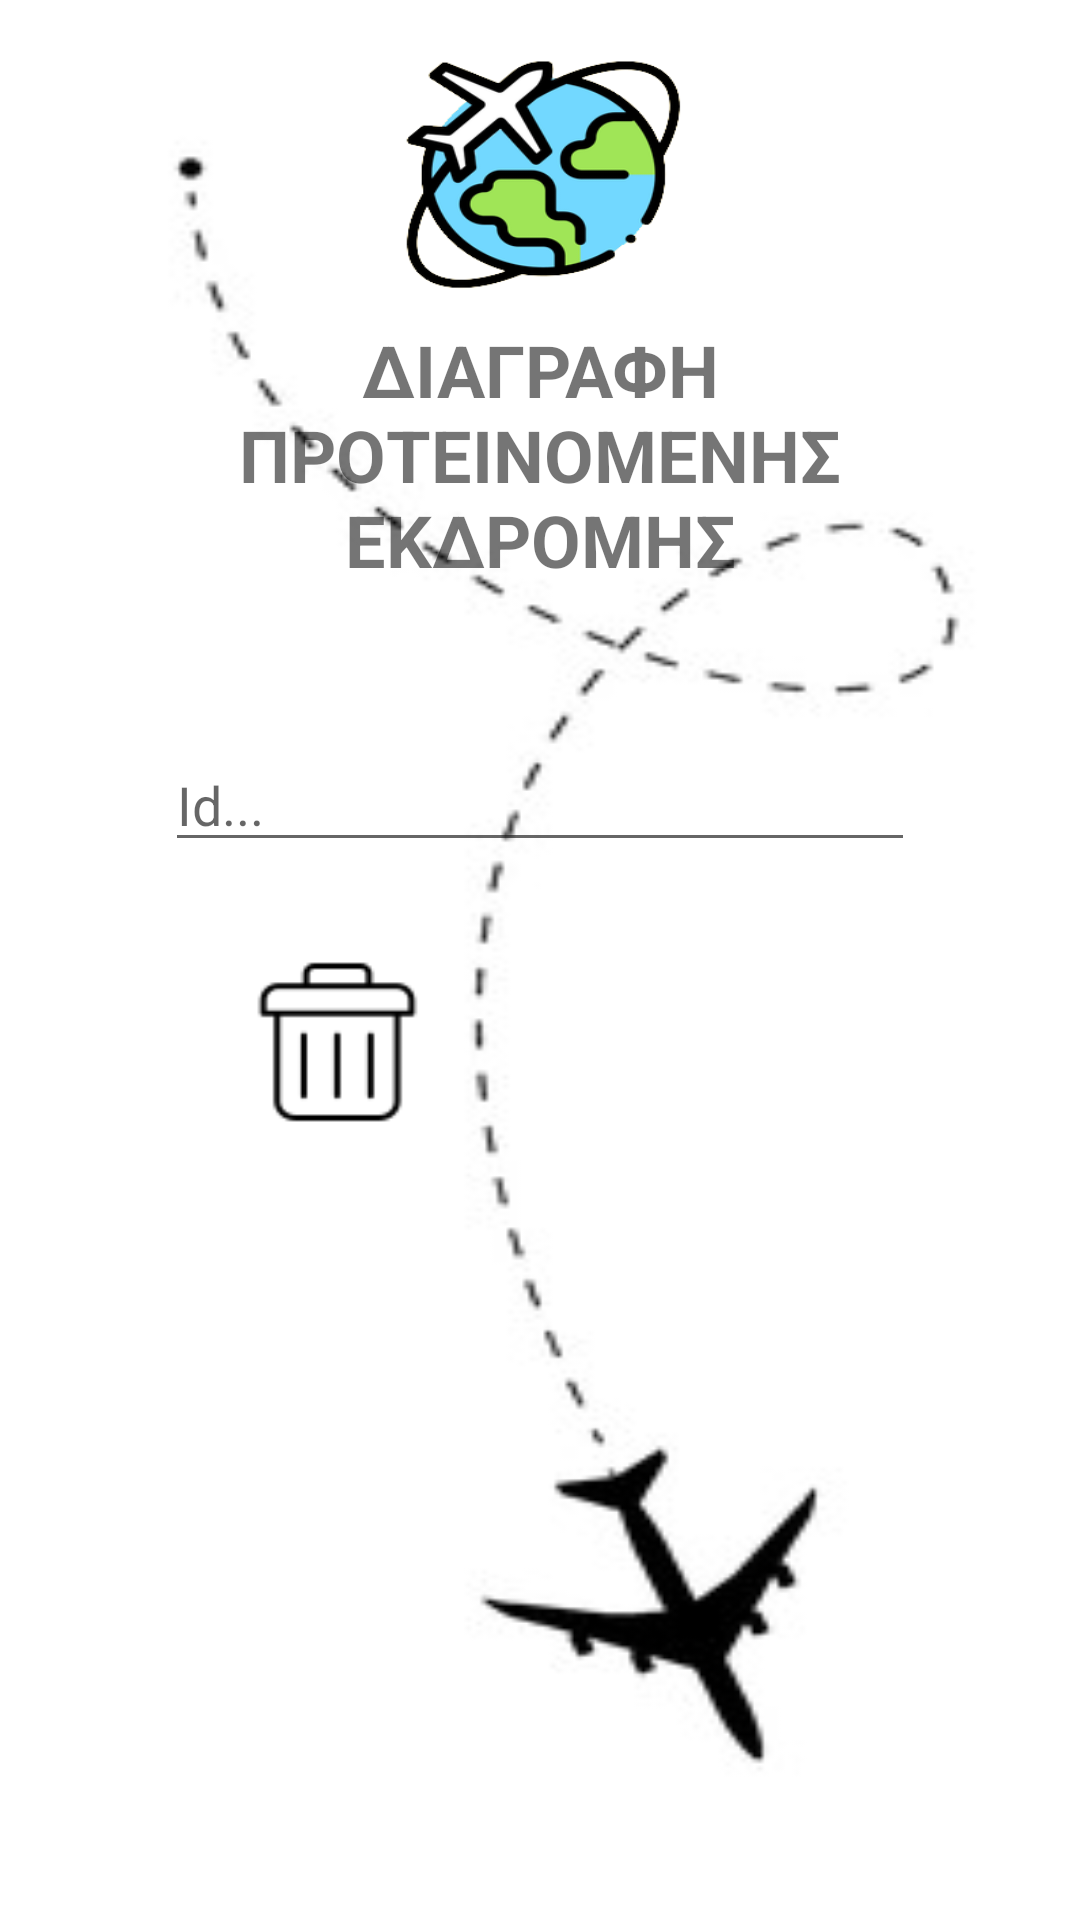

Where icons sit on this 1080x1920 app screen, as (x1, y1, x2, y2):
delete: (258, 962, 417, 1122)
